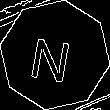N_N: (31, 27, 79, 83)
